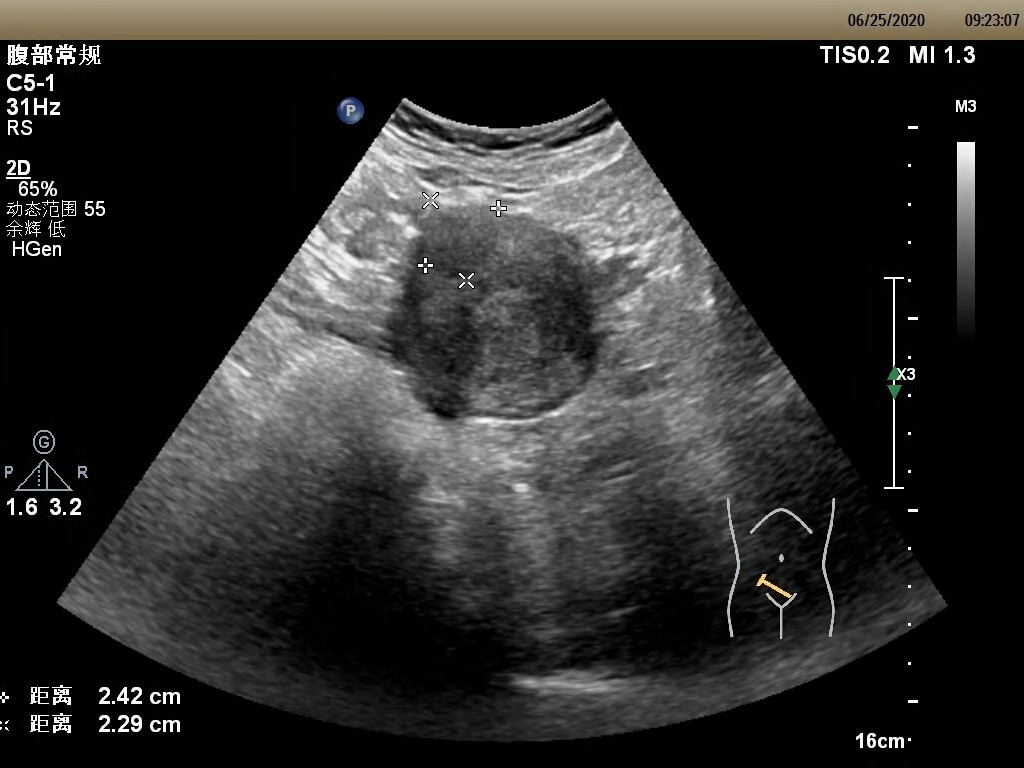肌瘤: (422, 201, 499, 273)
